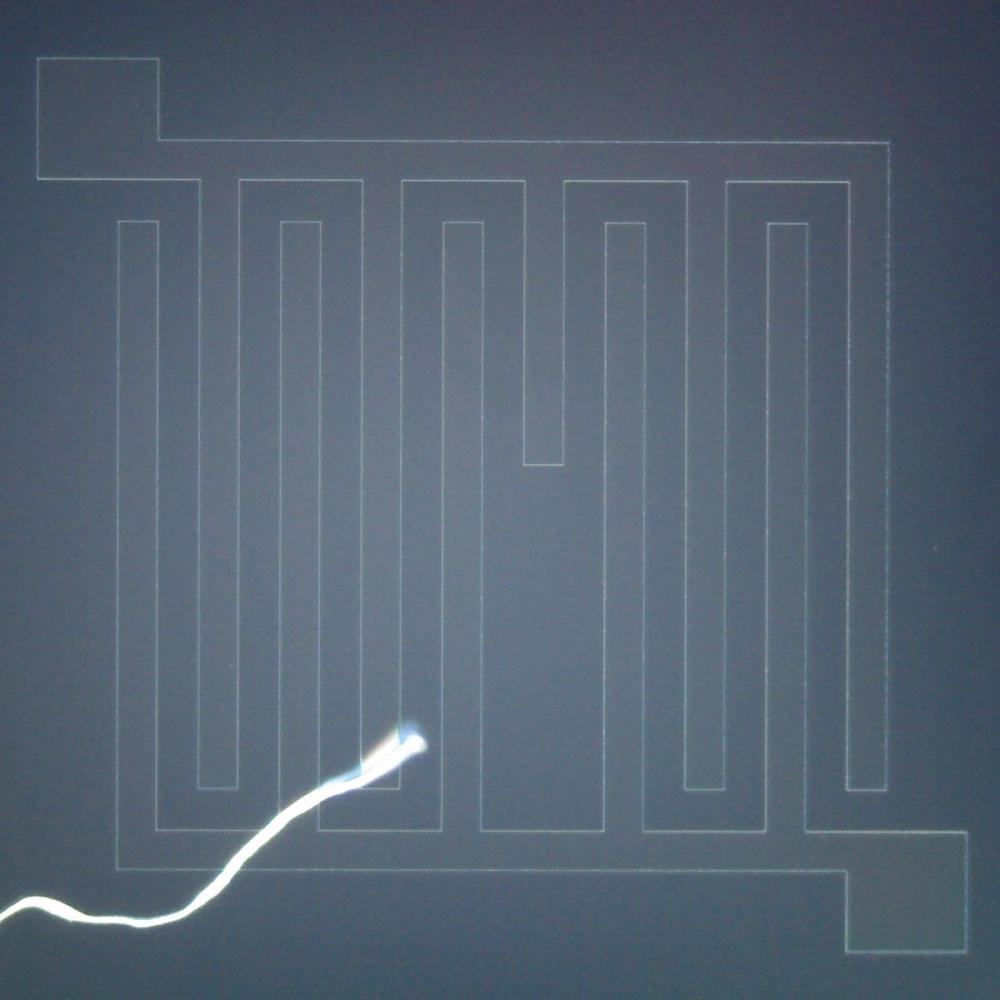curve: (201, 871, 238, 906), (356, 753, 393, 788), (233, 832, 269, 867), (392, 732, 428, 767), (165, 891, 201, 925), (54, 896, 90, 930), (91, 902, 127, 936), (128, 904, 164, 938), (281, 788, 317, 822), (19, 889, 53, 924), (321, 770, 356, 804)
